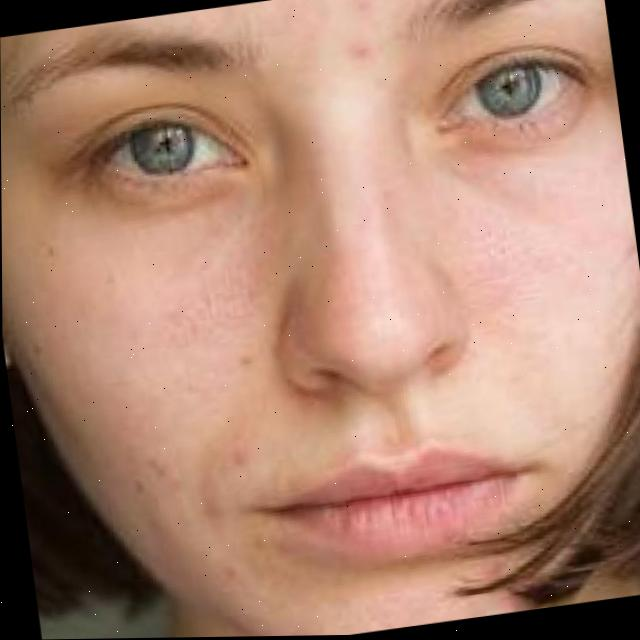Acne: (186, 427, 258, 544)
